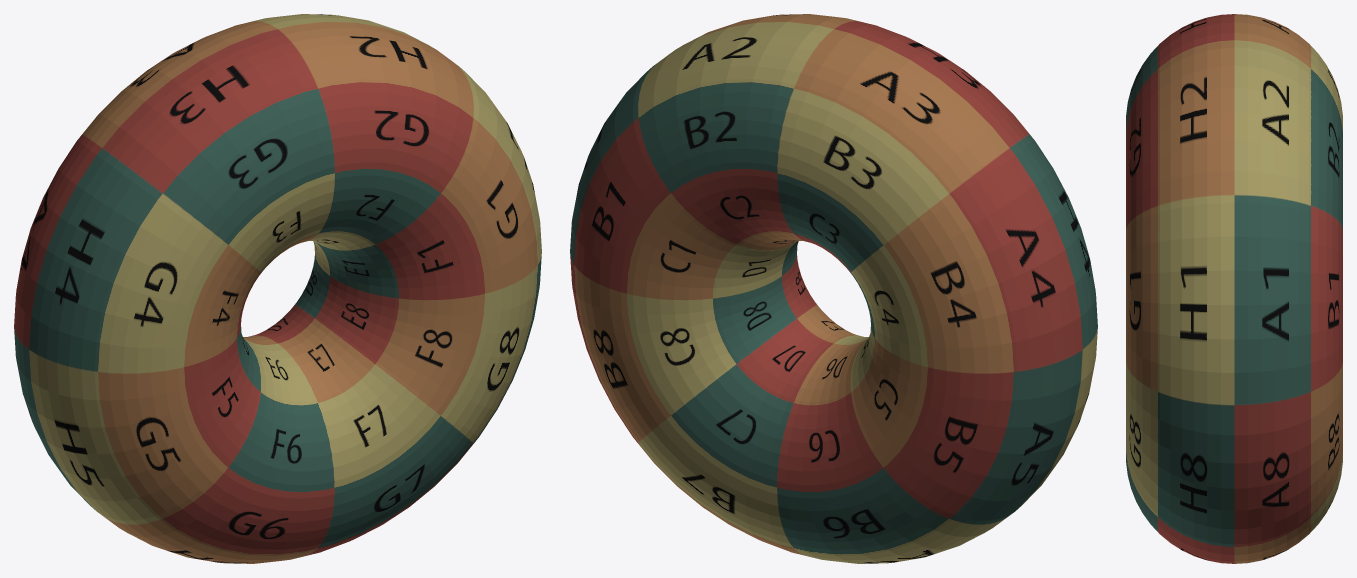
The model's file is texture_torus_R0_r17.glb.
3 renders of one model, left to right at view 1: azimuth 30°, elevation 25°; view 2: azimuth 150°, elevation 25°; view 3: azimuth 270°, elevation 25°, orthographic. The views are drawn at different scales.
Visible parts, largest first — view 1: world; view 2: world; view 3: world.
Boxes of the visible parts, left/top/right/bottom form: world: left=14, top=14, right=541, bottom=563; world: left=570, top=14, right=1097, bottom=563; world: left=1126, top=14, right=1342, bottom=563.
Bounding box in the file's own units: 16.53 × 16.5 × 6.52.
Materials: 1 (1 with a texture image).
